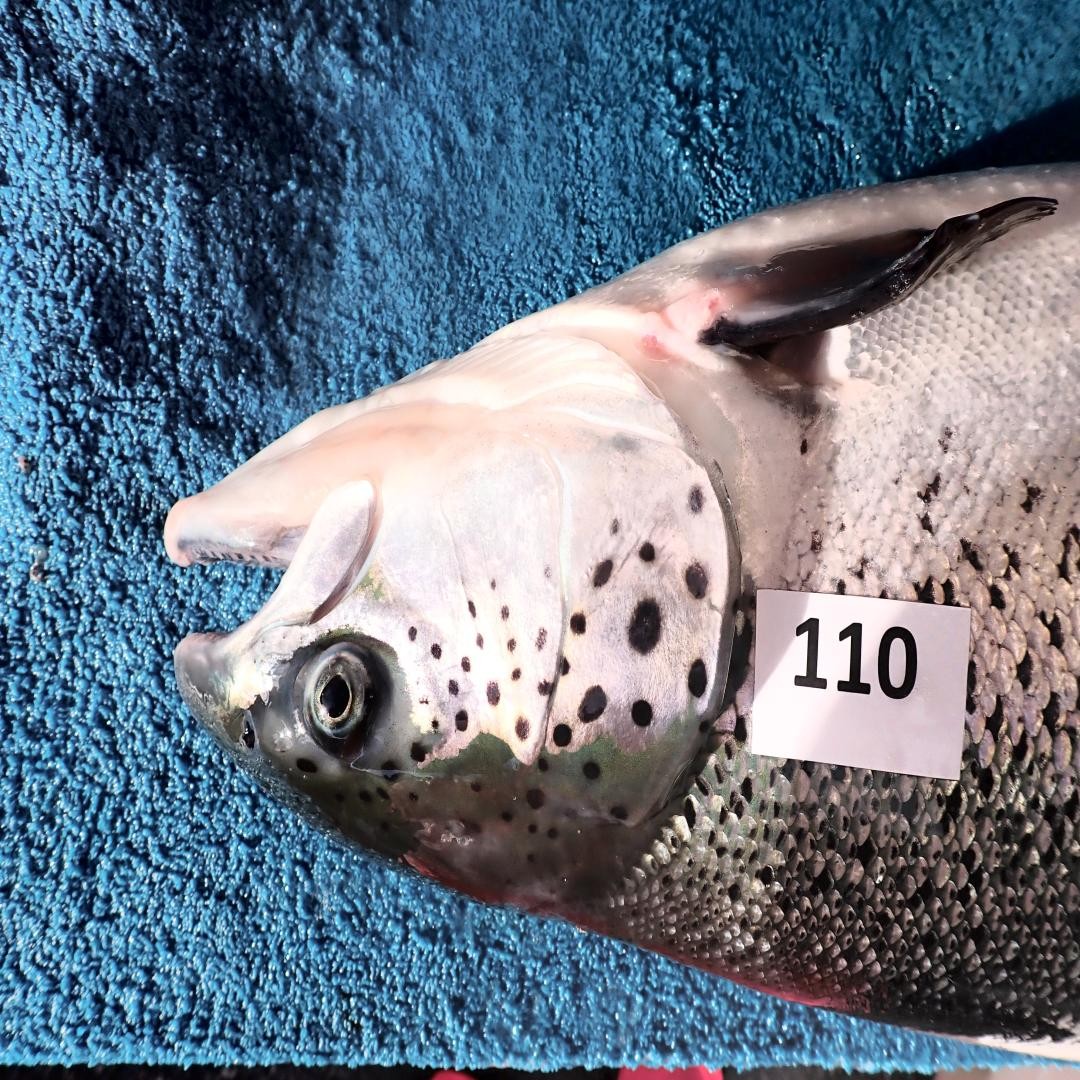spot: (629, 599, 660, 655), (578, 686, 608, 723), (686, 562, 709, 599), (688, 658, 707, 698), (631, 700, 652, 728), (593, 560, 614, 588), (610, 433, 639, 453), (688, 487, 705, 515), (553, 723, 572, 748), (570, 613, 586, 636), (410, 742, 427, 762), (487, 681, 500, 706), (639, 543, 656, 562), (515, 717, 529, 740), (456, 709, 468, 731), (538, 681, 553, 698), (536, 627, 546, 650), (430, 717, 443, 734), (559, 655, 570, 675), (447, 681, 460, 695), (542, 565, 555, 579), (610, 518, 620, 534), (510, 667, 521, 681), (506, 638, 517, 652), (430, 644, 441, 658), (407, 627, 418, 641), (477, 633, 485, 650), (462, 655, 470, 672), (468, 602, 477, 616), (500, 605, 508, 619), (418, 698, 430, 706), (489, 579, 496, 591)
